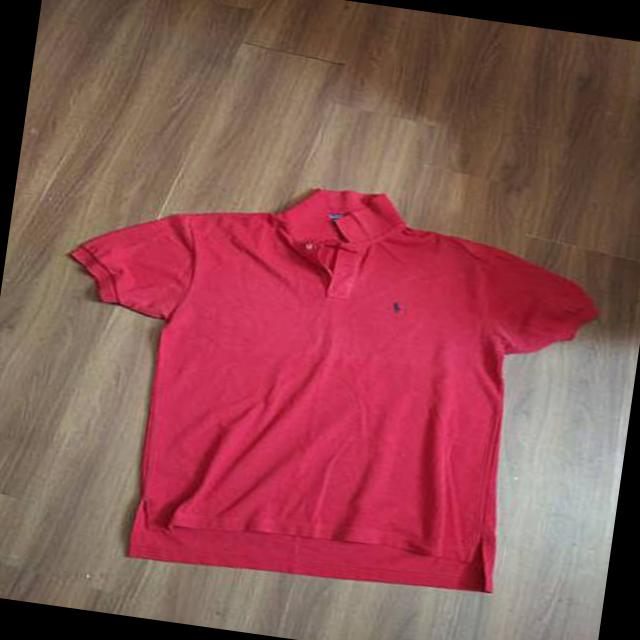T_SHIRT: (8, 142, 632, 632)
